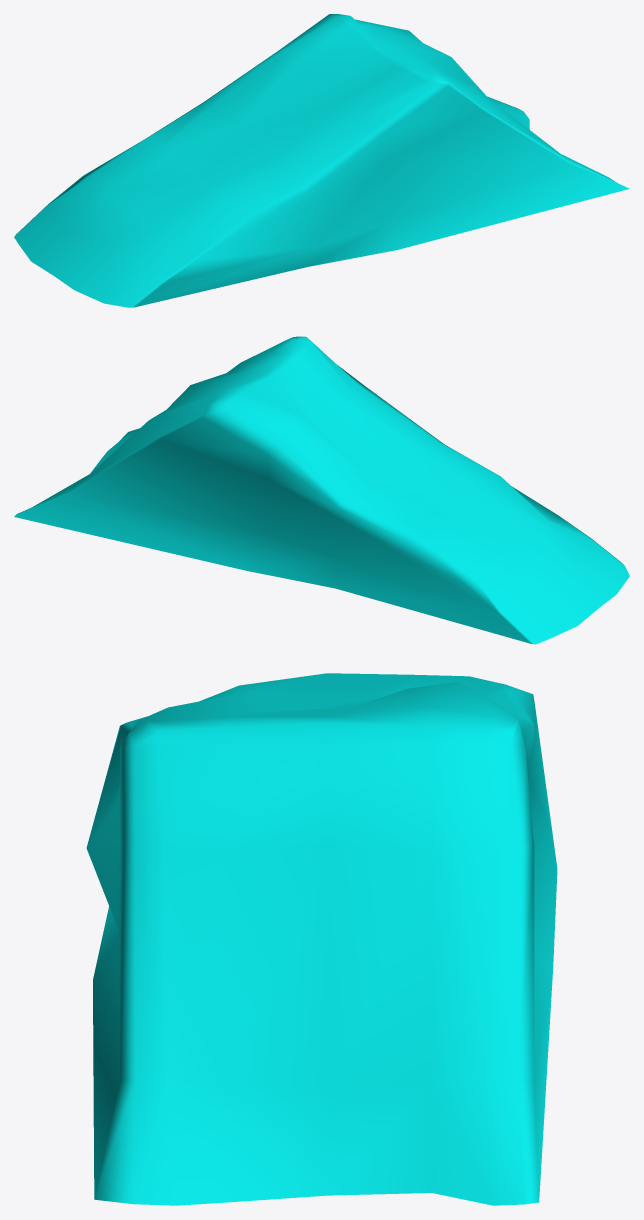
File: Ramp02_mesh.fbx
3 renders of one model, top to bottom at view 1: azimuth 30°, elevation 25°; view 2: azimuth 150°, elevation 25°; view 3: azimuth 270°, elevation 25°, orthographic. The views are drawn at different scales.
Parts seen in each view (by area): view 1: Ramp02_mesh; view 2: Ramp02_mesh; view 3: Ramp02_mesh.
Boxes of the visible parts, x1=… form: Ramp02_mesh: x1=14, y1=14, x2=629, y2=307; Ramp02_mesh: x1=14, y1=336, x2=629, y2=644; Ramp02_mesh: x1=86, y1=673, x2=557, y2=1205.
Bounding box in the file's own units: 14.5 × 4.12 × 5.68.
